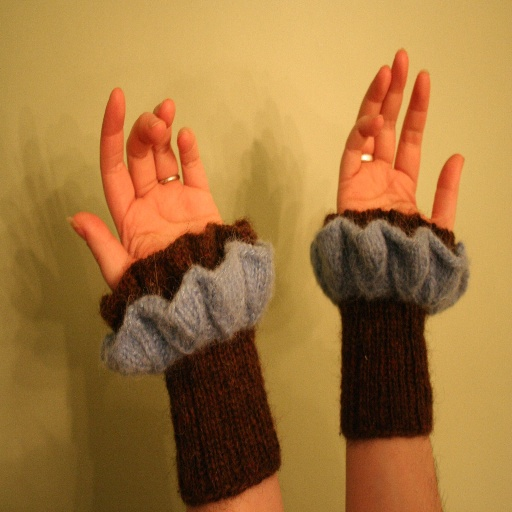hand: (65, 86, 222, 290), (330, 61, 470, 249)
